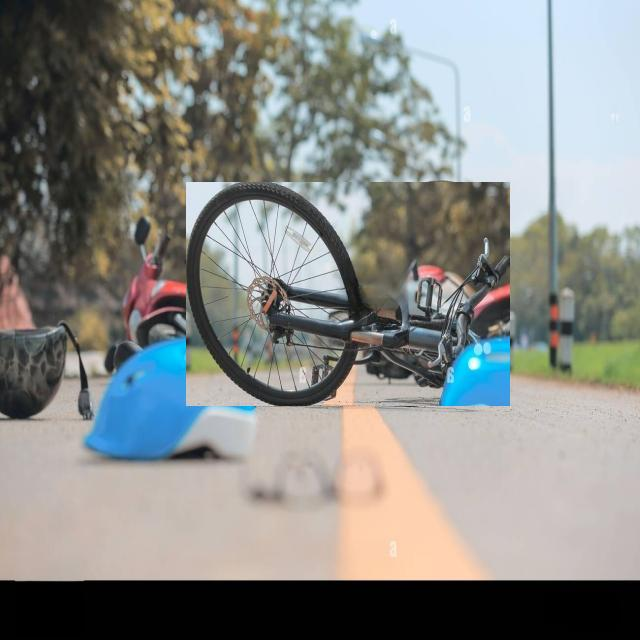accident: (186, 182, 510, 406)
